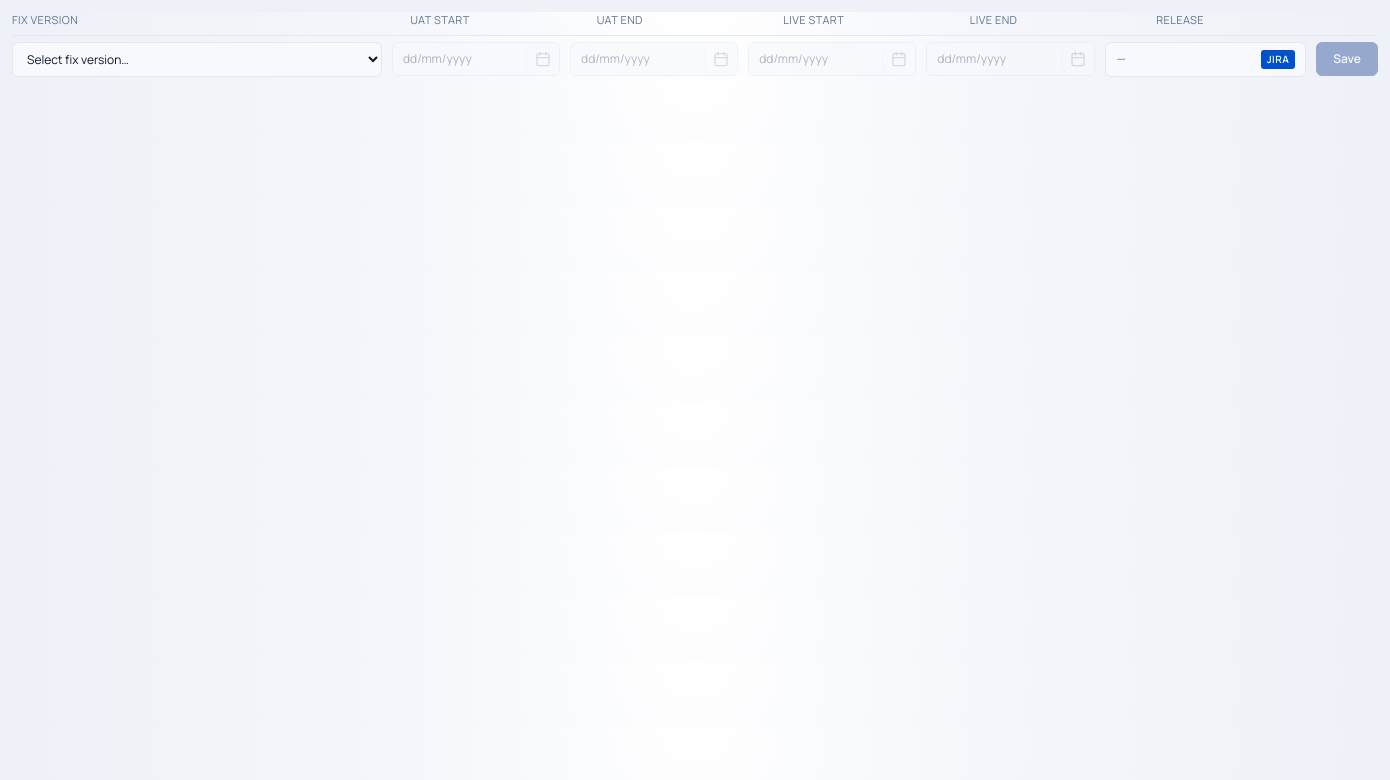
FixVersionPicker › pulls back UAT dates (in dd/mm/yyyy) when a fix version with saved dates is selected
This screenshot has width=1390, height=780.
Select "Release One" in the dropdown named "Fix version": (197, 59) left=12, top=42, right=382, bottom=76
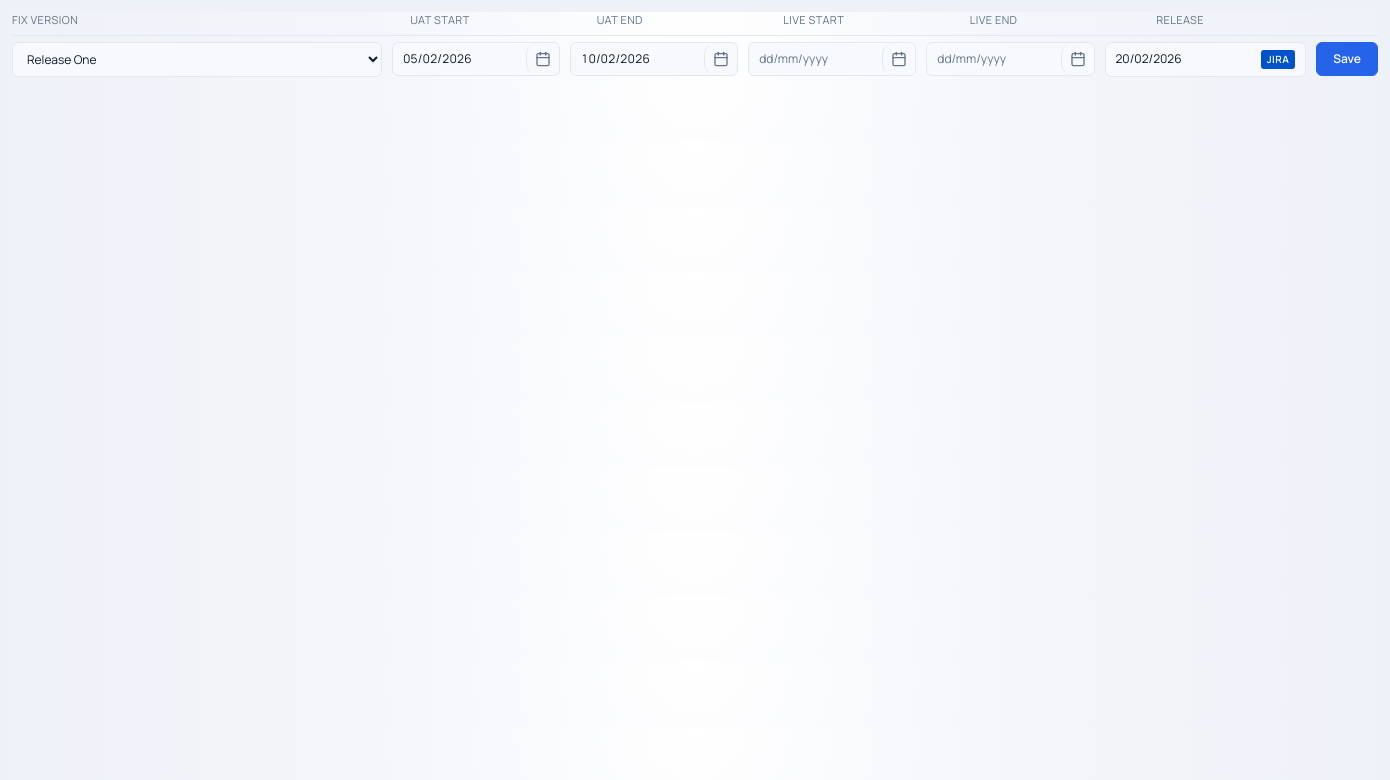
Expected: the field named "Live start" is empty, left=749, top=43, right=882, bottom=75
Expected: the field named "UAT start" holds "05/02/2026", left=393, top=43, right=526, bottom=75
Expected: the field named "UAT end" holds "10/02/2026", left=571, top=43, right=704, bottom=75
